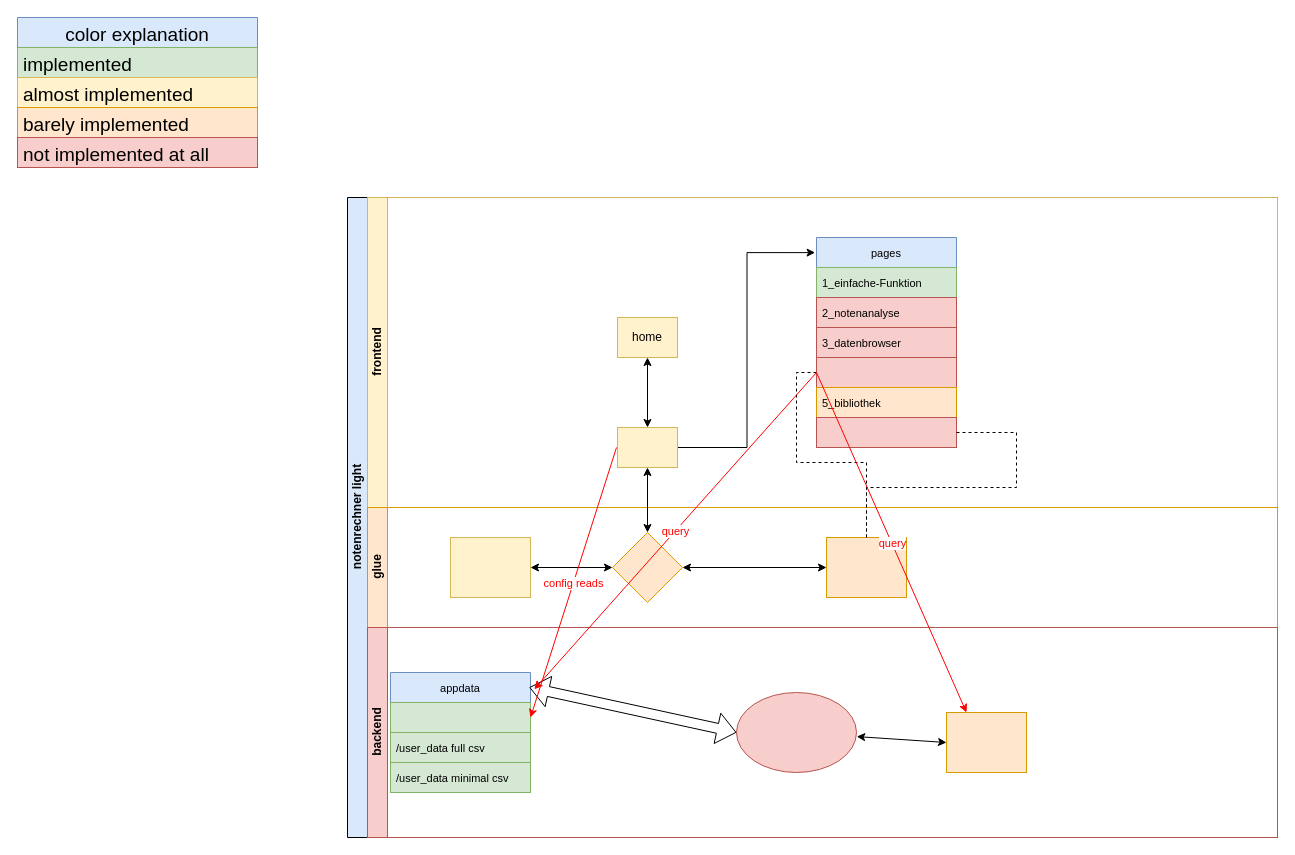
Some shapes in this 1295 by 855 pixel diagram are drawn without their labels. The centre of each missing label's shape, as x and y in pixels:
"4_query-datenbrowser" belongs at point 886,372.
"6_Einstellungen" belongs at point 886,432.
"data_core" belongs at point 647,567.
"data_objcts" belongs at point 490,567.
"data_reader" belongs at point 866,567.
"listener" belongs at point 796,732.
"main" belongs at point 647,447.
"notenrechnersettings.json" belongs at point 460,717.
"ORA DB 21c XE" belongs at point 986,742.
